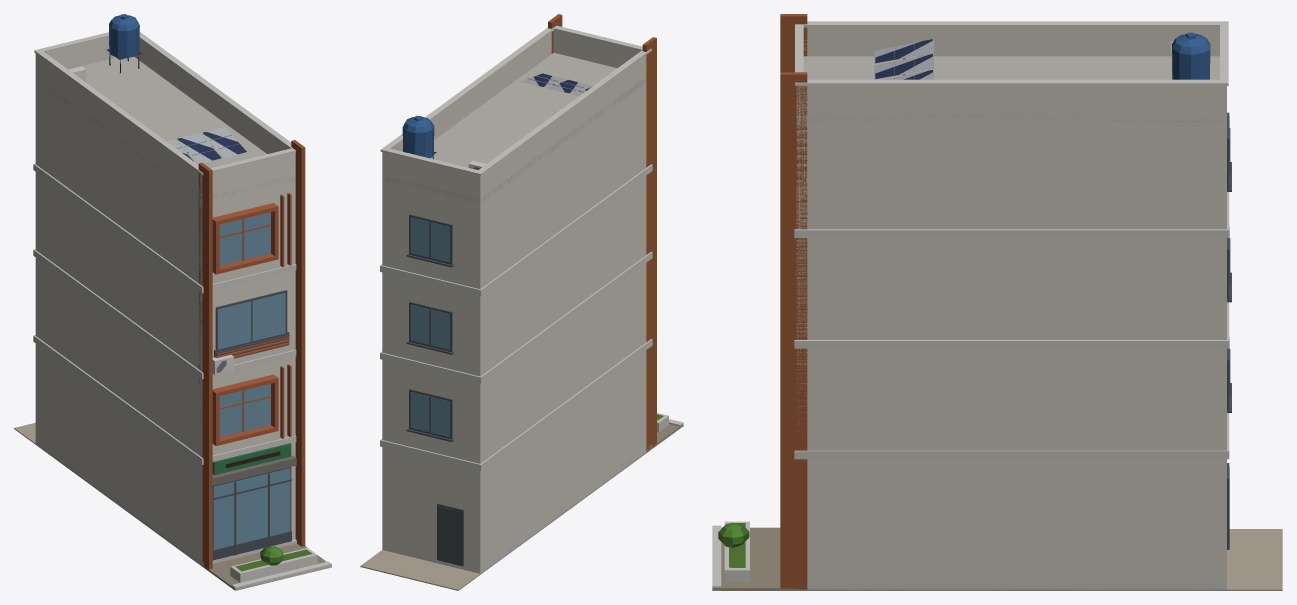
The model's file is bay2_mid.glb.
3 renders of one model, left to right at view 1: azimuth 30°, elevation 25°; view 2: azimuth 150°, elevation 25°; view 3: azimuth 270°, elevation 25°, orthographic. The views are drawn at different scales.
Parts seen in each view (by area): view 1: body; view 2: body; view 3: body.
Boxes of the visible parts, box(x1,y1,x2,y2) form: body: box(14, 14, 331, 590); body: box(360, 14, 683, 590); body: box(712, 14, 1282, 590).
Bounding box in the file's own units: 4.12 × 16.69 × 15.9.
